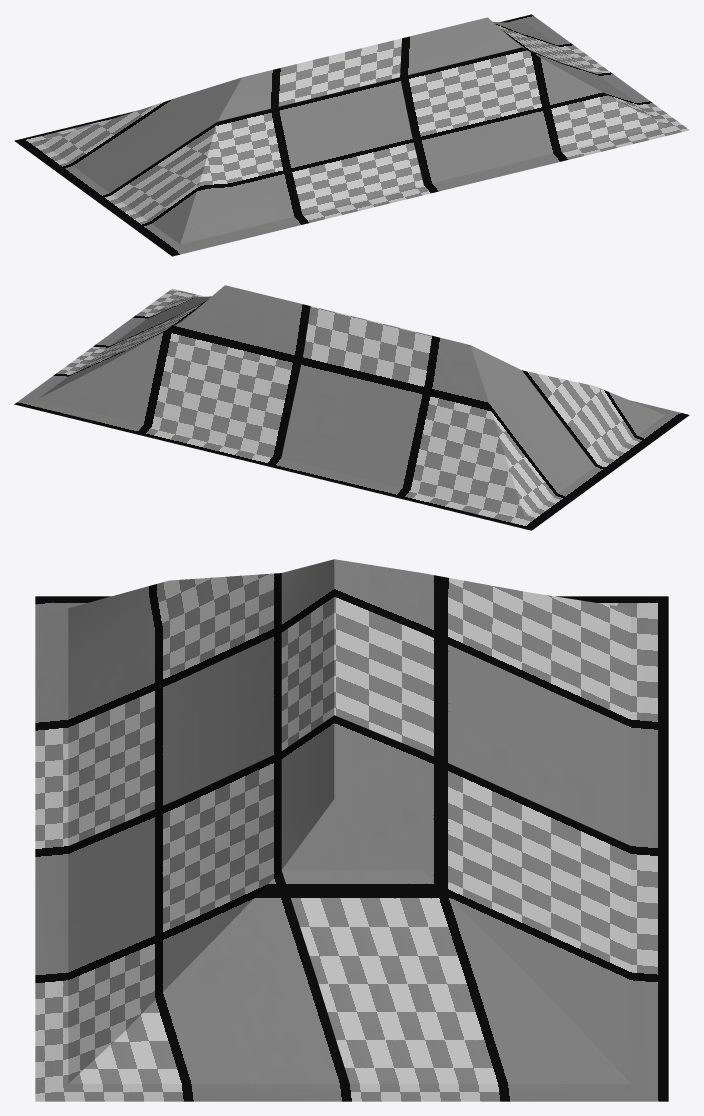
File: roof_6596563.glb
3 views of the same model, one above another, from view 1: azimuth 30°, elevation 25°; view 2: azimuth 150°, elevation 25°; view 3: azimuth 270°, elevation 25° (orthographic). The views are drawn at different scales.
Visible parts, largest first — view 1: mesh; view 2: mesh; view 3: mesh.
Part boxes in pixels (x1,y1,x2,y2): mesh: (14, 14, 689, 256); mesh: (14, 285, 689, 530); mesh: (35, 559, 668, 1101).
Size of the model in its own units: 34 by 5.6 by 18.
1 material, 1 textured.
